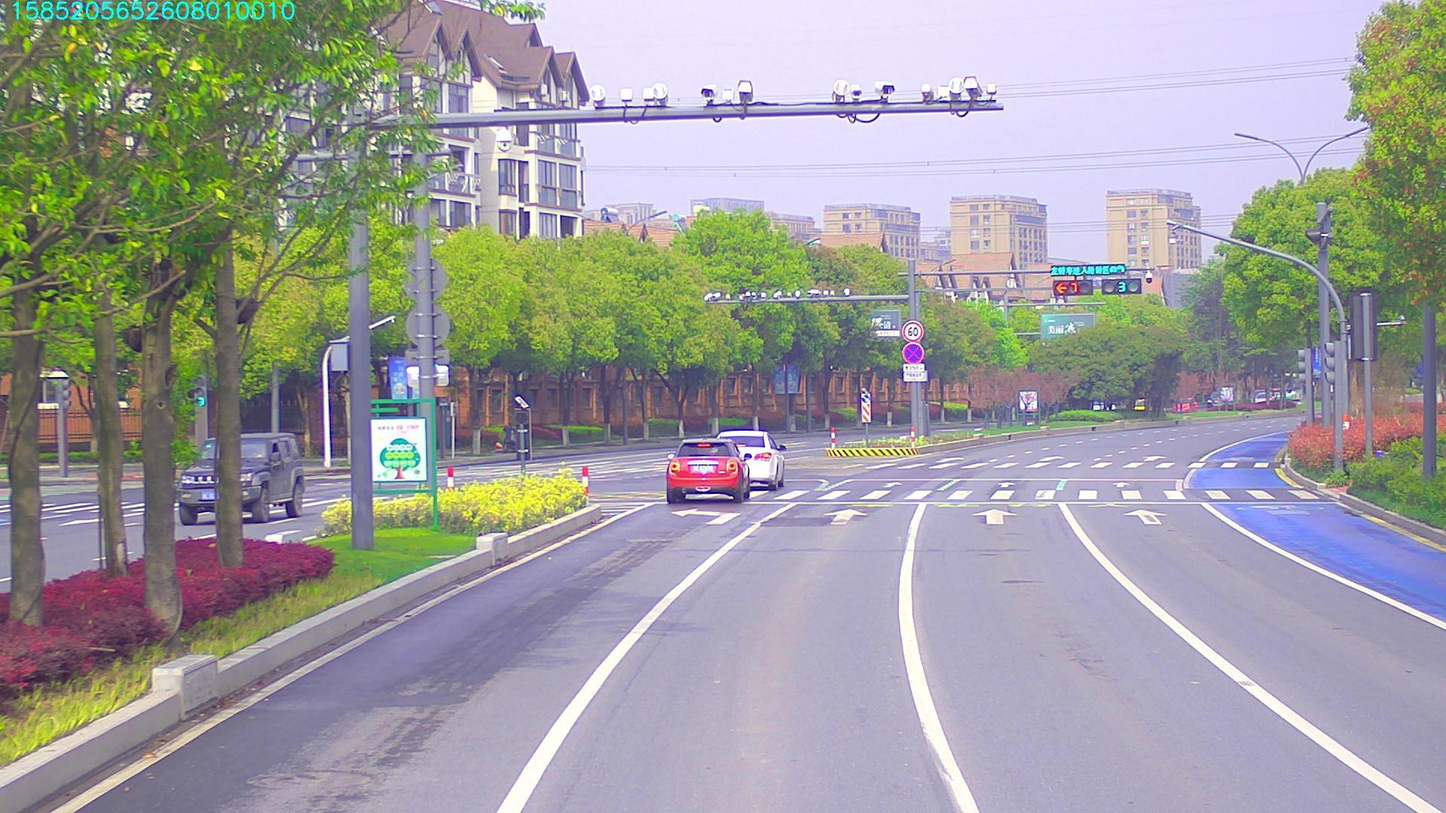green: (1105, 284, 1140, 297)
red: (1051, 279, 1088, 297)
wait_on: (1051, 260, 1127, 282)
